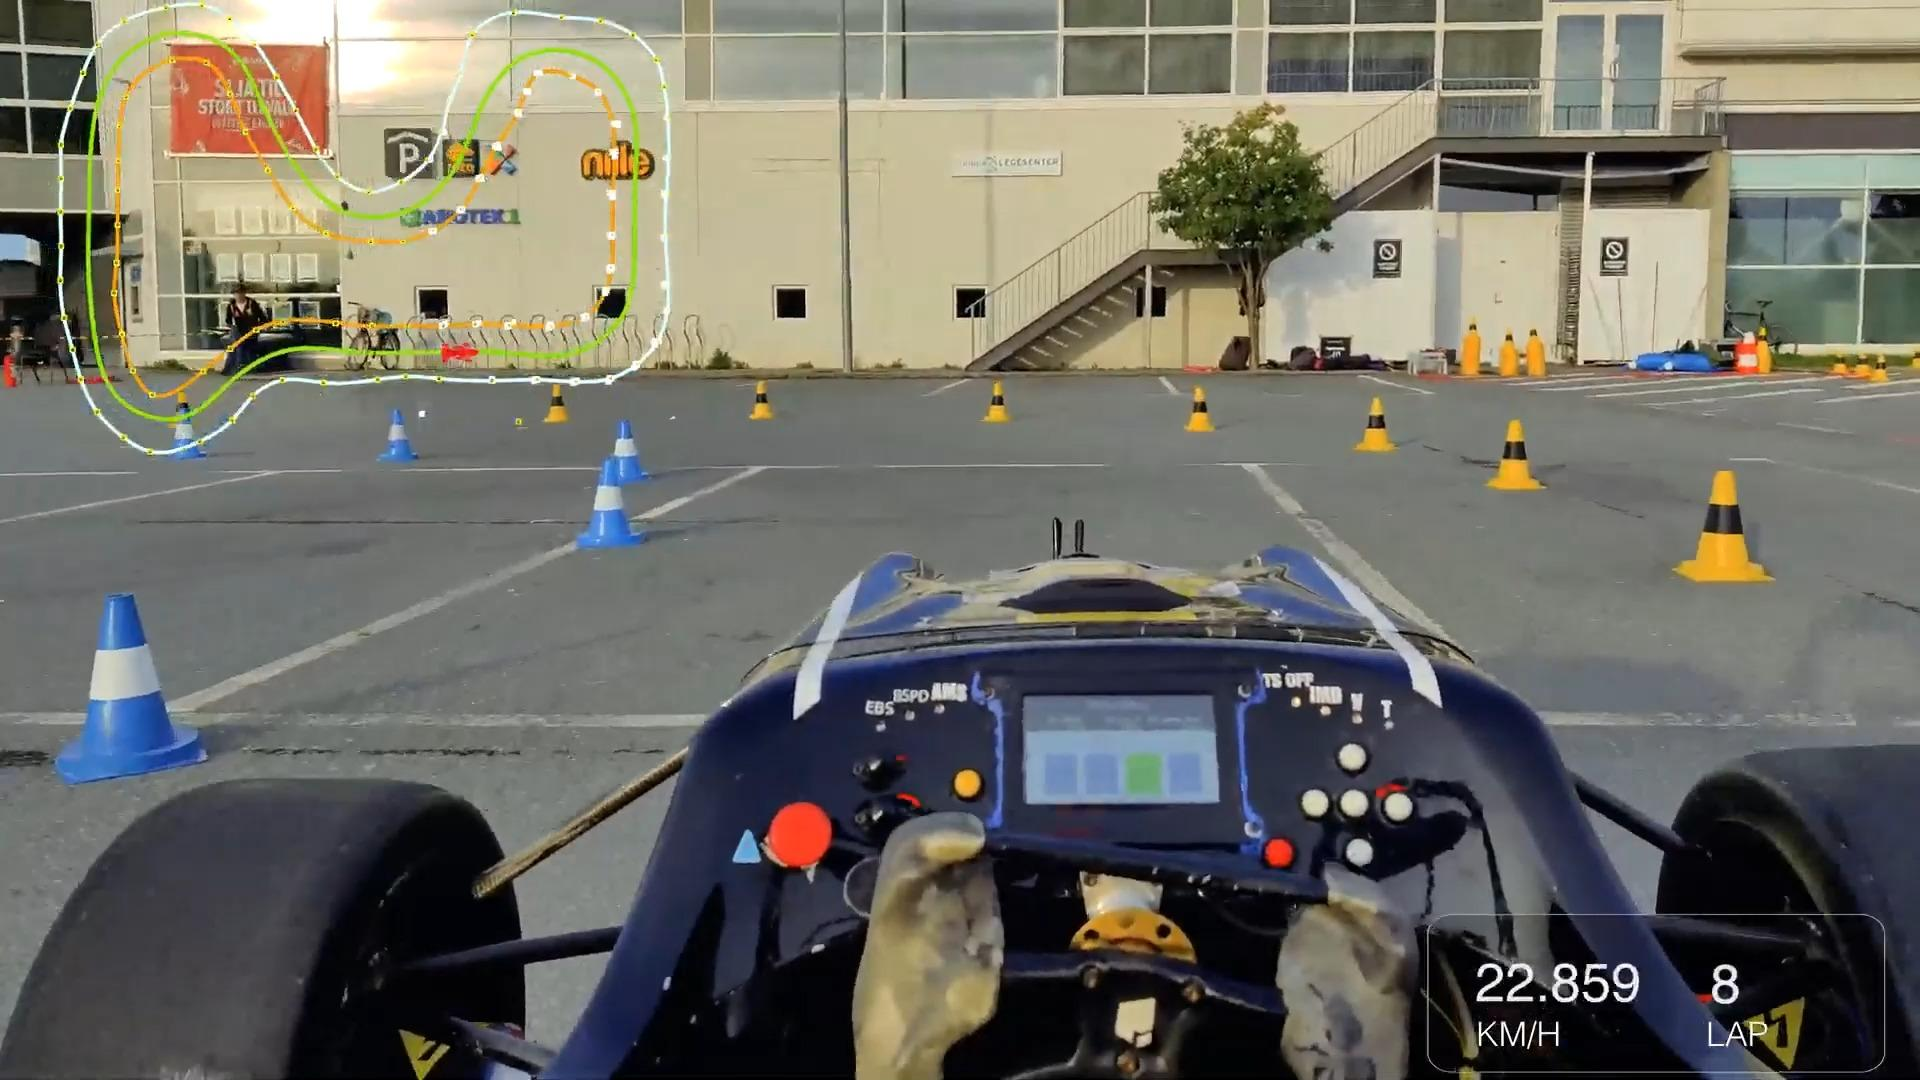blue_cone: (63, 582, 206, 786), (579, 460, 644, 550), (605, 419, 654, 483), (381, 405, 430, 468), (167, 411, 206, 458)
large_orange_cone: (1731, 332, 1759, 378)
yellow_cone: (1679, 471, 1764, 588), (1490, 422, 1544, 489), (1360, 398, 1403, 454), (980, 381, 1011, 426), (1183, 390, 1212, 434), (748, 380, 777, 422), (543, 381, 570, 426), (170, 386, 196, 431), (1867, 353, 1892, 385), (1829, 352, 1851, 380), (1462, 316, 1484, 340), (1851, 352, 1871, 377), (1501, 327, 1516, 349), (1530, 326, 1545, 347), (1908, 348, 1920, 373)
